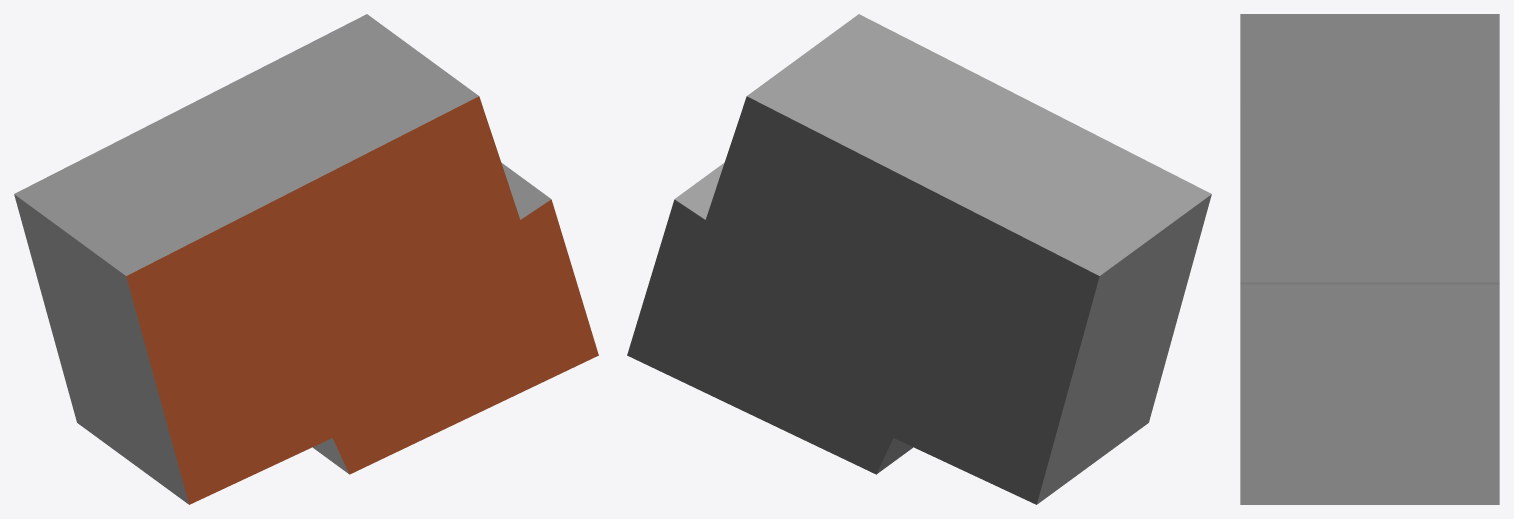
The model's file is construction_3281_assumed_A_Casa_h6m.obj.
3 views of the same model, side by side, from view 1: azimuth 30°, elevation 25°; view 2: azimuth 150°, elevation 25°; view 3: azimuth 270°, elevation 25° (orthographic). The views are drawn at different scales.
Visible parts, largest first — view 1: construction_3281_assumed_A_Casa; view 2: construction_3281_assumed_A_Casa; view 3: construction_3281_assumed_A_Casa.
Part boxes in pixels (box(x1,y1,x2,y2)): construction_3281_assumed_A_Casa: box(14, 14, 598, 504); construction_3281_assumed_A_Casa: box(627, 14, 1211, 504); construction_3281_assumed_A_Casa: box(1240, 14, 1499, 504).
Bounding box in the file's own units: 14.59 × 10.23 × 6.
